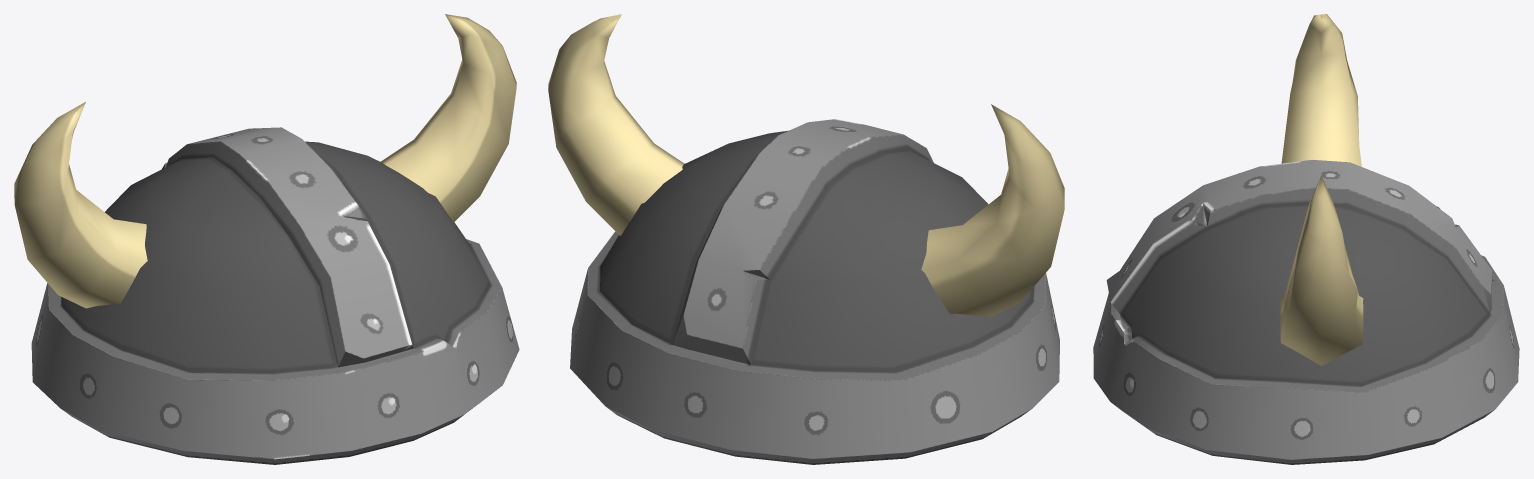
File: VikingHelmet.fbx
The picture shows the model from 3 angles, left to right: view 1: azimuth 30°, elevation 25°; view 2: azimuth 150°, elevation 25°; view 3: azimuth 270°, elevation 25°; orthographic projection. The views are drawn at different scales.
Visible parts, largest first — view 1: VikingHelmet; view 2: VikingHelmet; view 3: VikingHelmet.
Boxes of the visible parts, <box> form: VikingHelmet: <box>14,14,519,464</box>; VikingHelmet: <box>548,14,1064,464</box>; VikingHelmet: <box>1093,14,1519,464</box>.
Size of the model in its own units: 0.7146 by 0.4146 by 0.5717.
